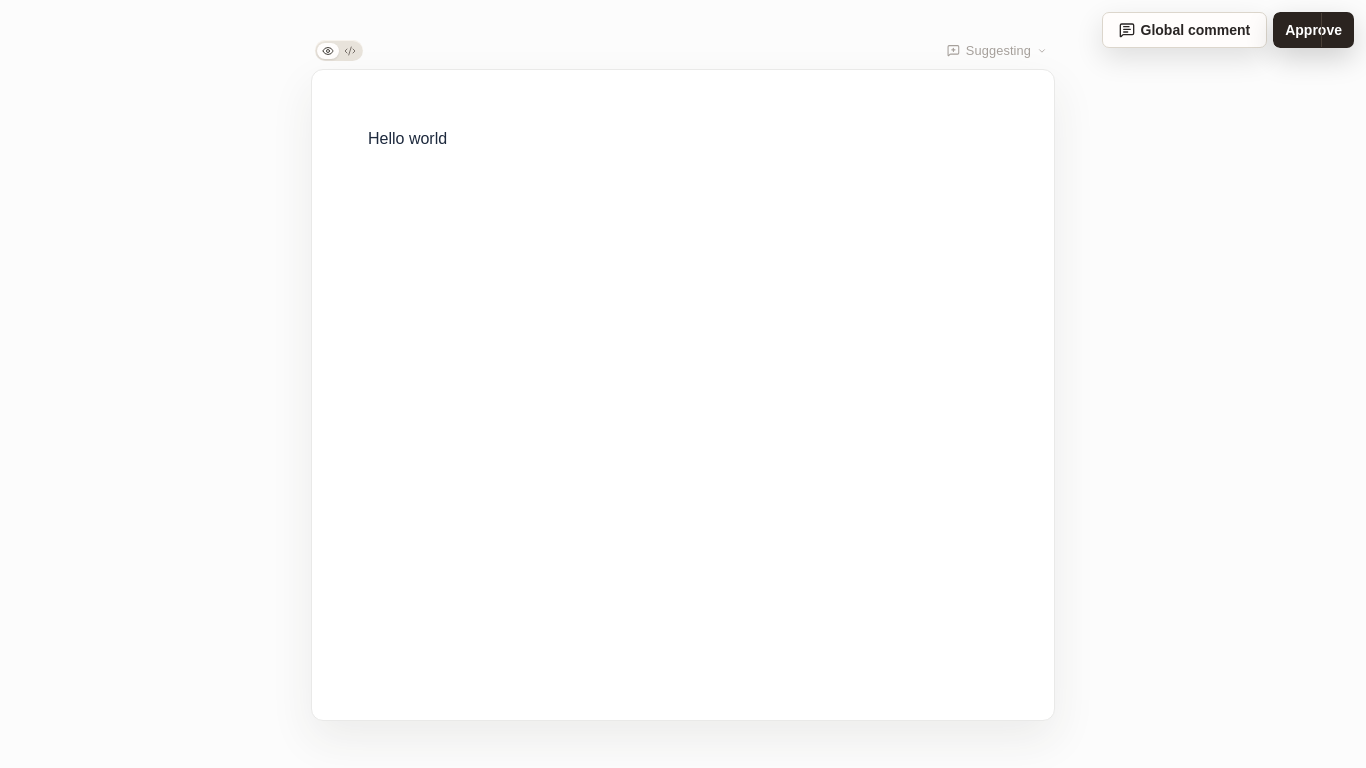
Test: review handoff watcher affordance › ignores an acknowledged handoff that belongs to another Done
Click the button "Approve" at coordinates (1314, 30), box [1273,12,1354,48]
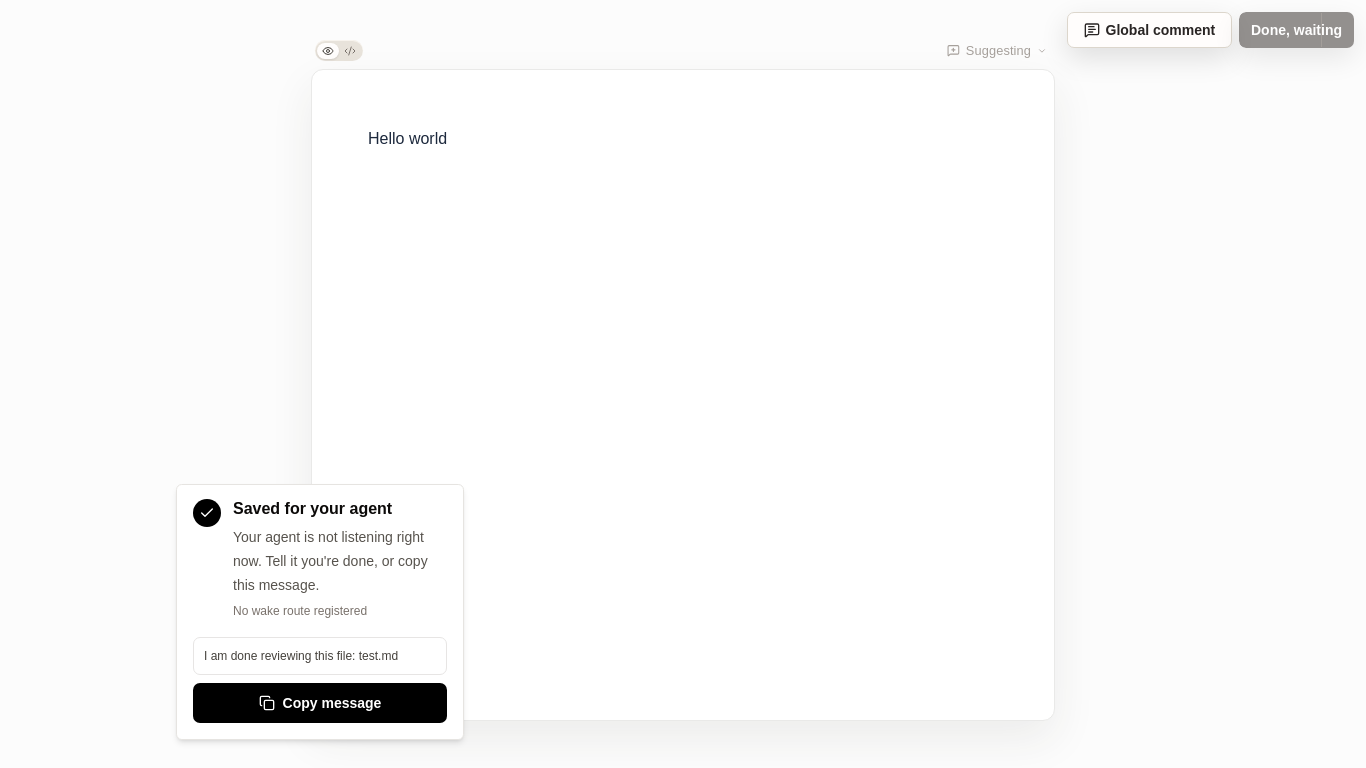
Check: the button "Done, waiting" is shown, box [1239,12,1354,48]
